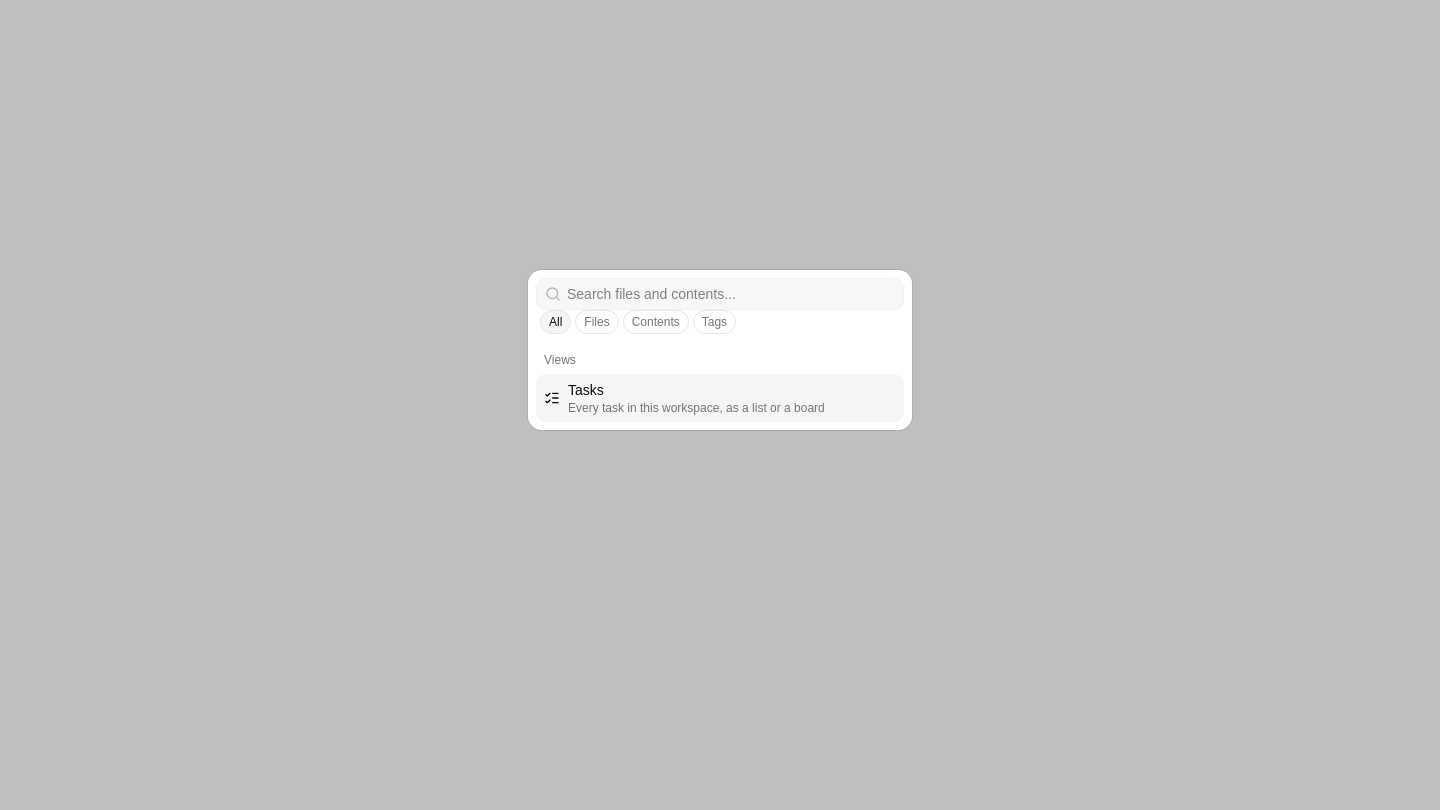
Test: QuickOpenDialog › labels tag matches as tagged
The width and height of the screenshot is (1440, 810).
Click the button "Tags" at (714, 322), box [693,310,736,334]
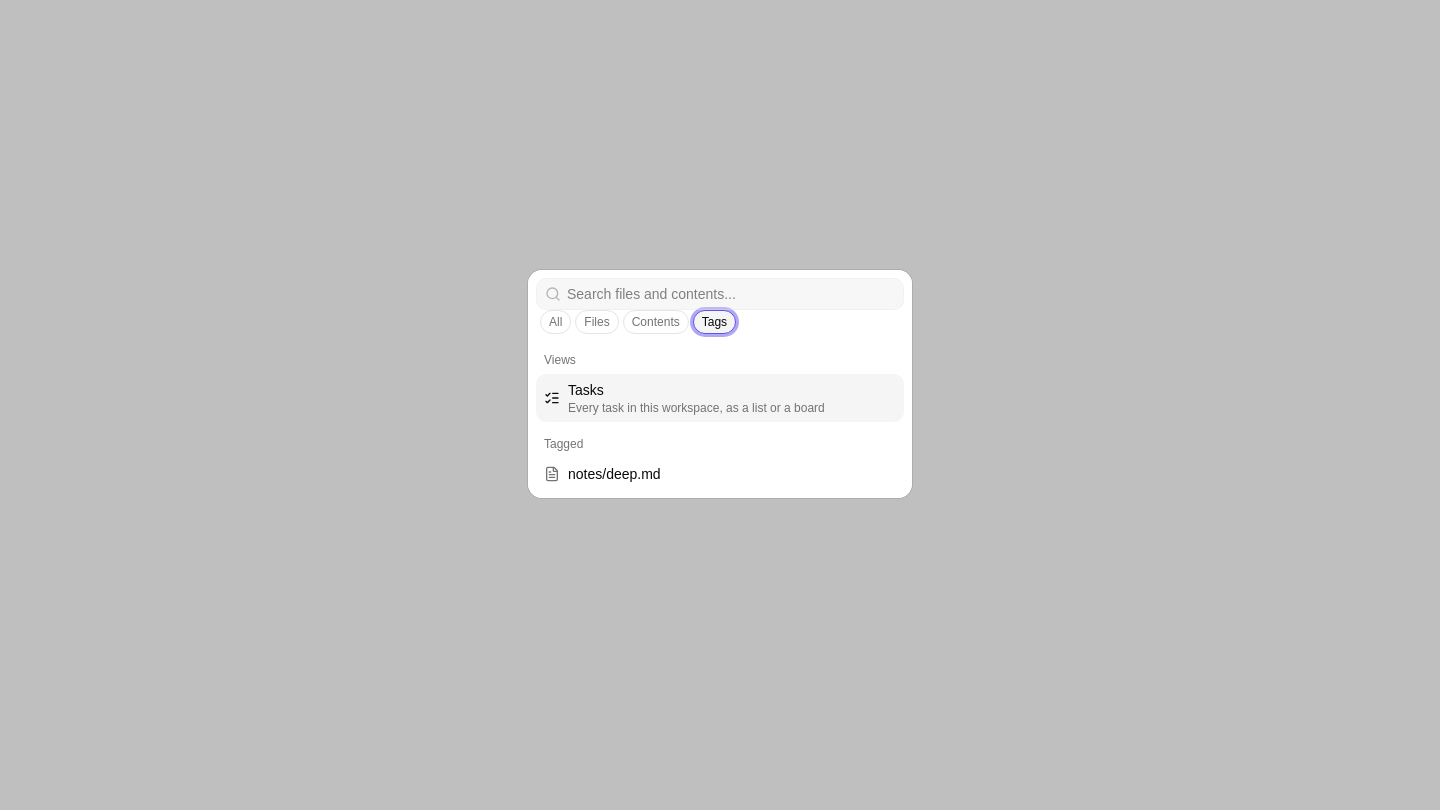
Now the text "Tagged" is shown, box [544,437,583,451]
